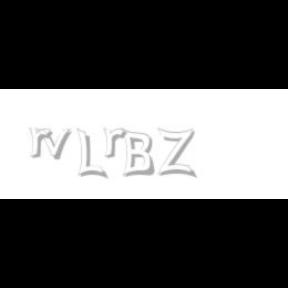B: (120, 128, 154, 178)
L: (77, 128, 105, 180)
Z: (158, 128, 195, 178)
r: (102, 128, 130, 158), (29, 128, 56, 158)
v: (35, 128, 75, 160)
